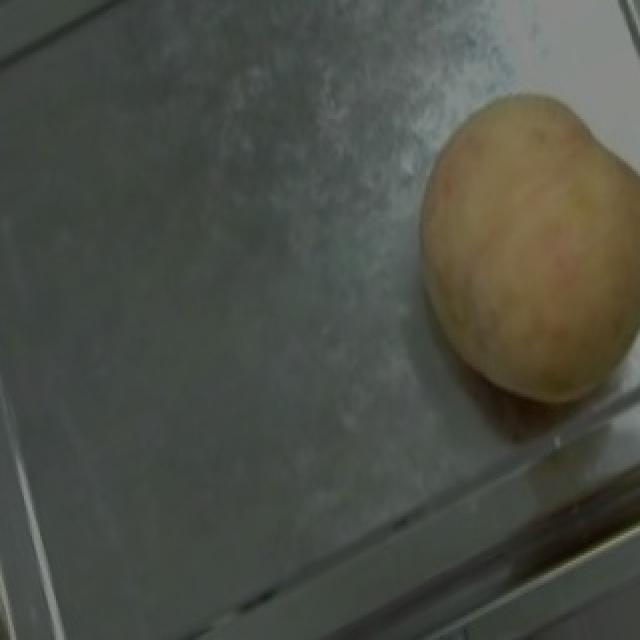Fruit: (370, 57, 640, 442)
